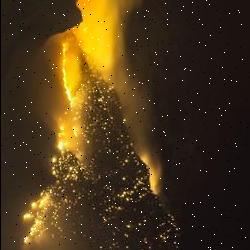fire: (42, 49, 92, 158), (15, 194, 55, 242)
